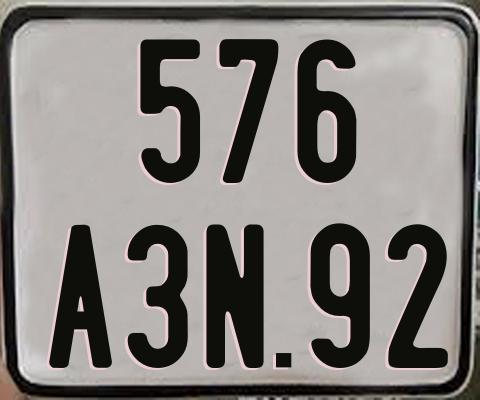2: (387, 224, 449, 374)
3: (125, 224, 190, 367)
5: (137, 36, 198, 186)
6: (295, 37, 356, 187)
7: (216, 37, 282, 182)
9: (308, 223, 368, 369)
A: (48, 223, 114, 368)
N: (206, 221, 270, 367)
